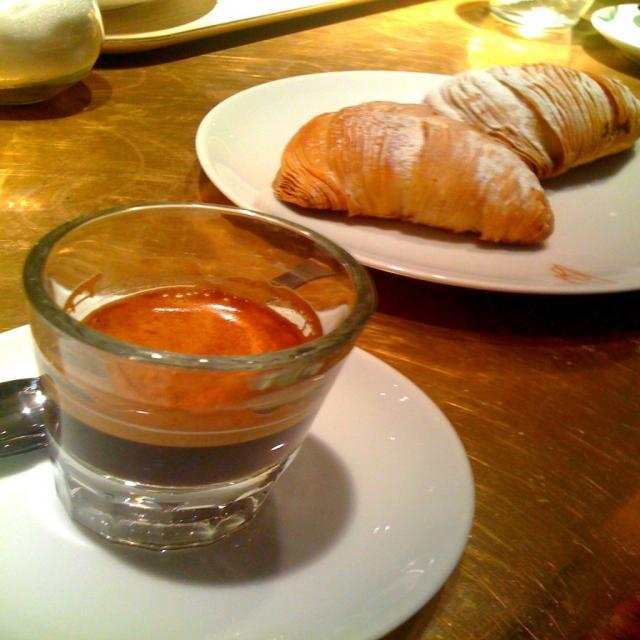Croissant: (271, 105, 555, 243), (416, 64, 640, 182)
